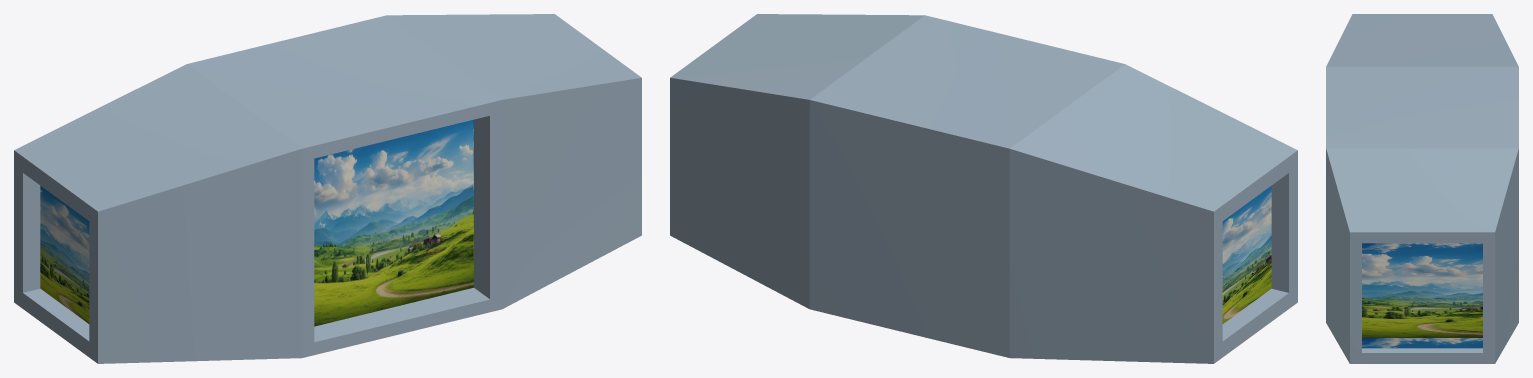
3 views of the same model, side by side, from view 1: azimuth 30°, elevation 25°; view 2: azimuth 150°, elevation 25°; view 3: azimuth 270°, elevation 25° (orthographic). The views are drawn at different scales.
Visible parts, largest first — view 1: Cube; view 2: Cube; view 3: Cube.
Boxes of the visible parts, x1,y1,x2,y2 form: Cube: (14, 14, 641, 363); Cube: (670, 14, 1297, 363); Cube: (1326, 14, 1518, 363).
Size of the model in its own units: 5.42 by 2 by 2.
1 material, 1 textured.
